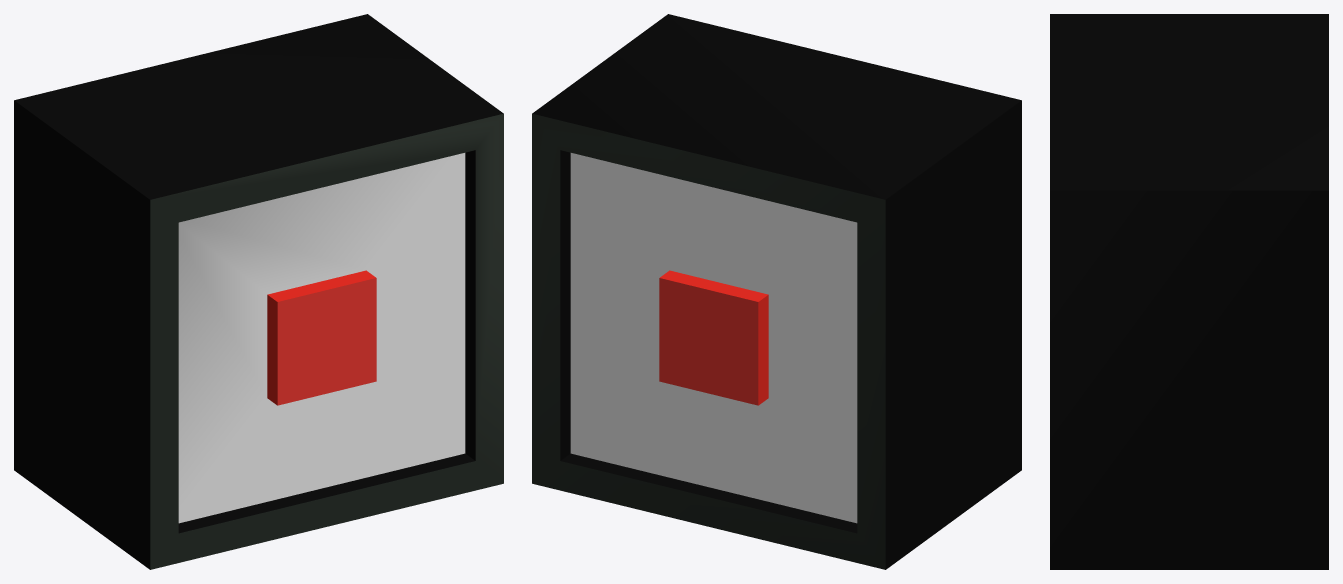
File: Sushi_001.fbx
3 renders of one model, left to right at view 1: azimuth 30°, elevation 25°; view 2: azimuth 150°, elevation 25°; view 3: azimuth 270°, elevation 25°, orthographic. The views are drawn at different scales.
Visible parts, largest first — view 1: Object060; view 2: Object060; view 3: Object060.
Boxes of the visible parts, box(x1,y1,x2,y2) form: Object060: box(14, 14, 503, 569); Object060: box(532, 14, 1021, 569); Object060: box(1050, 14, 1328, 569).
Size of the model in its own units: 26.56 by 17.7 by 26.56.
